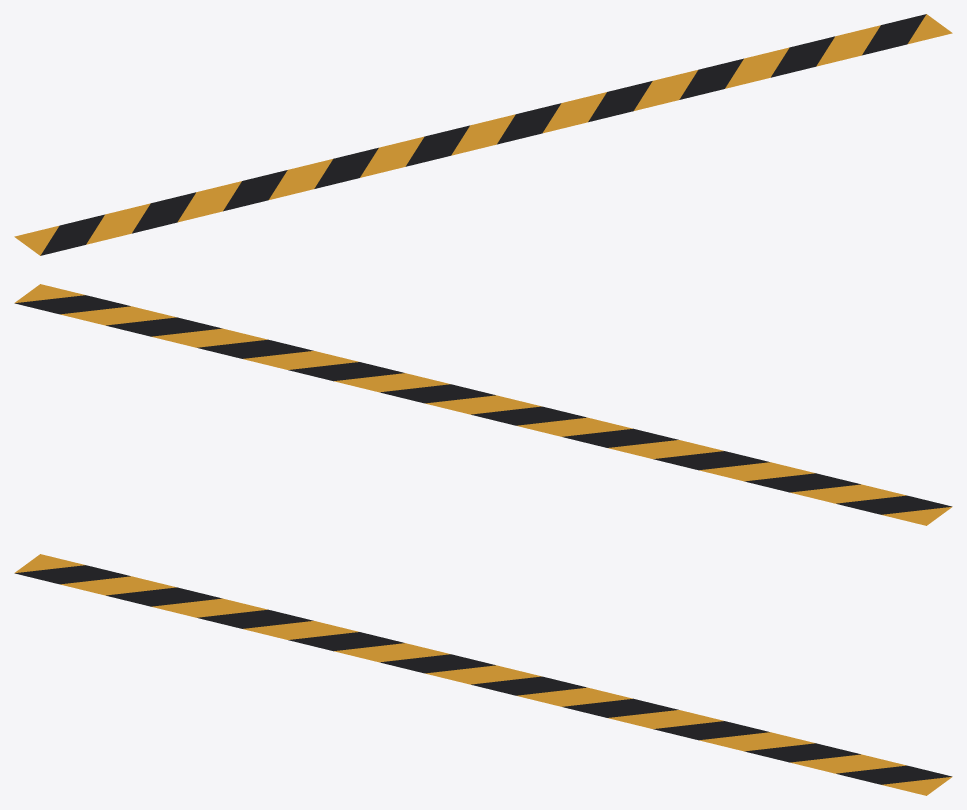
Rendered from dc_threshold_band.glb.
3 renders of one model, top to bottom at view 1: azimuth 30°, elevation 25°; view 2: azimuth 150°, elevation 25°; view 3: azimuth 330°, elevation 25°, orthographic.
Parts seen in each view (by area): view 1: dc_threshold_band; view 2: dc_threshold_band; view 3: dc_threshold_band.
Boxes of the visible parts, box(x1,y1,x2,y2) form: dc_threshold_band: box(14, 14, 952, 255); dc_threshold_band: box(14, 284, 952, 525); dc_threshold_band: box(14, 554, 952, 795).
Bounding box in the file's own units: 4 × 0 × 0.2.
